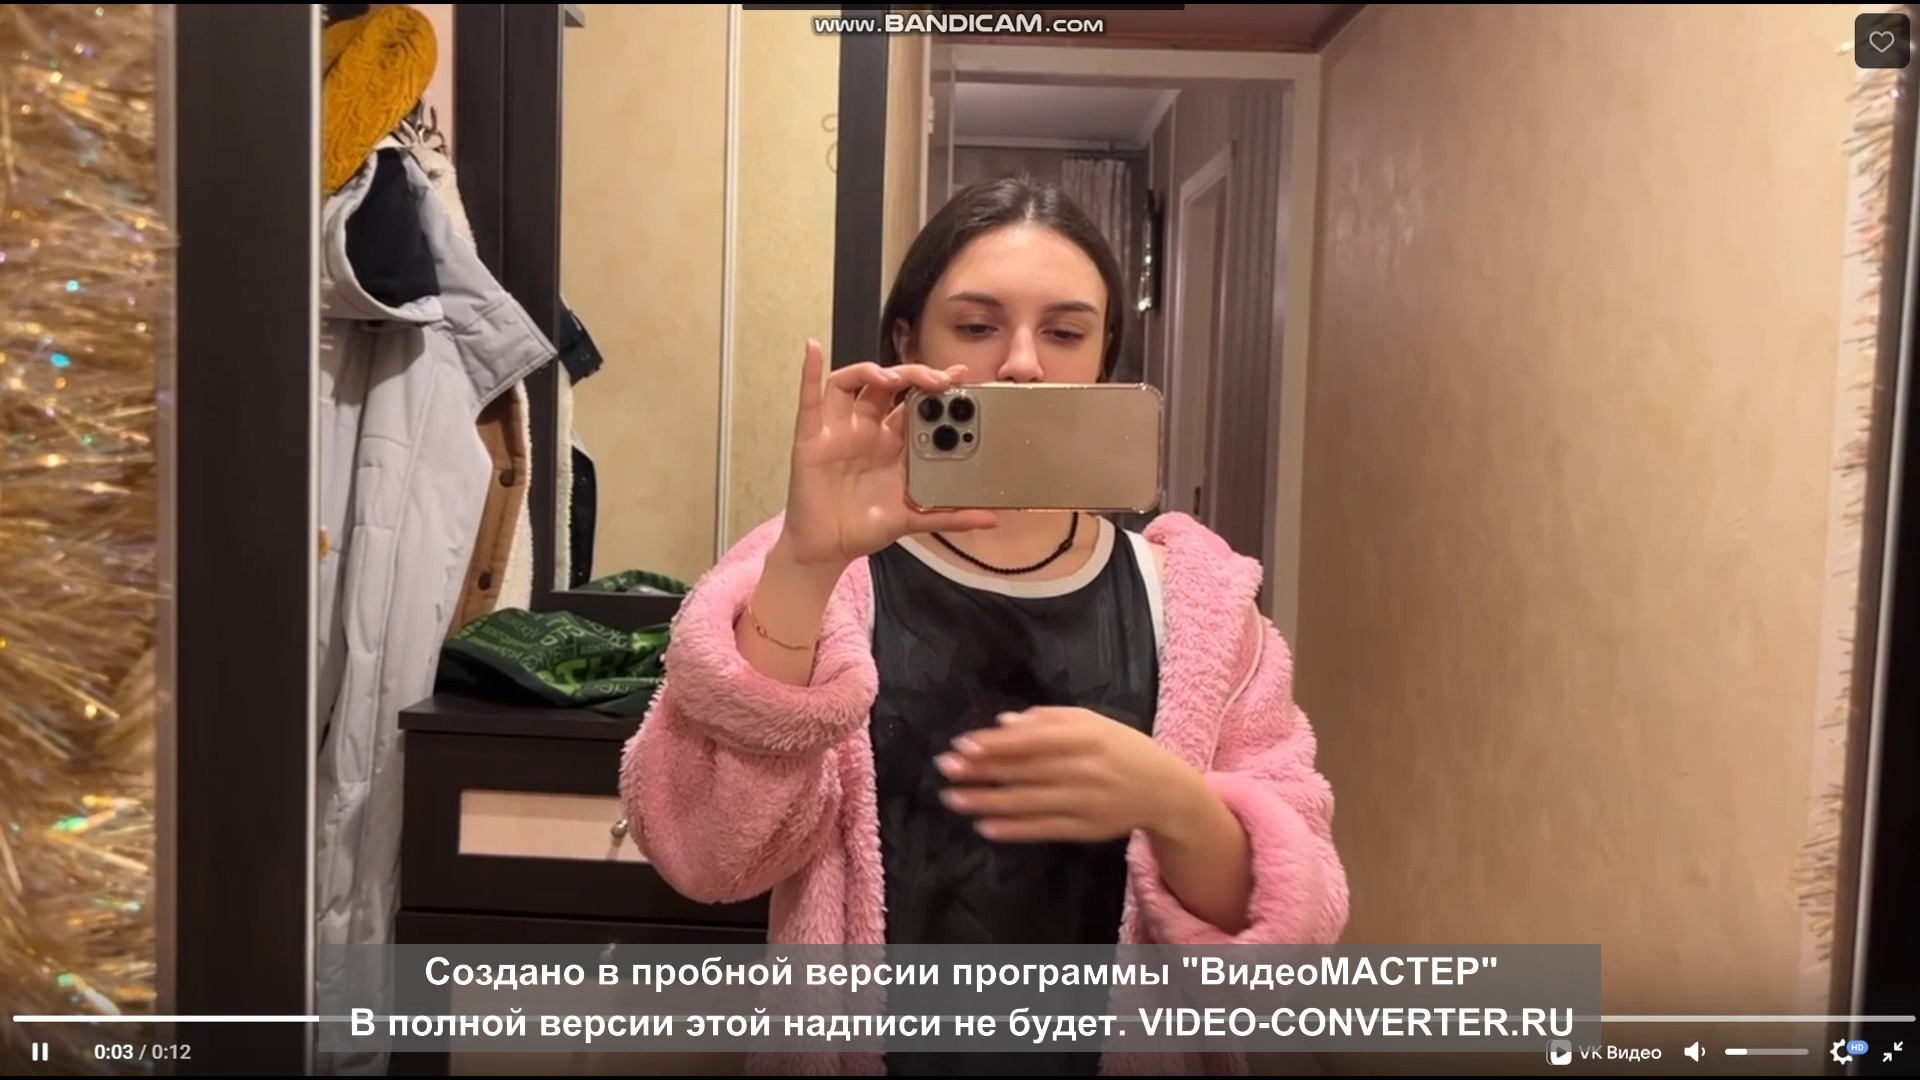Кисть: (932, 702, 1150, 841)
